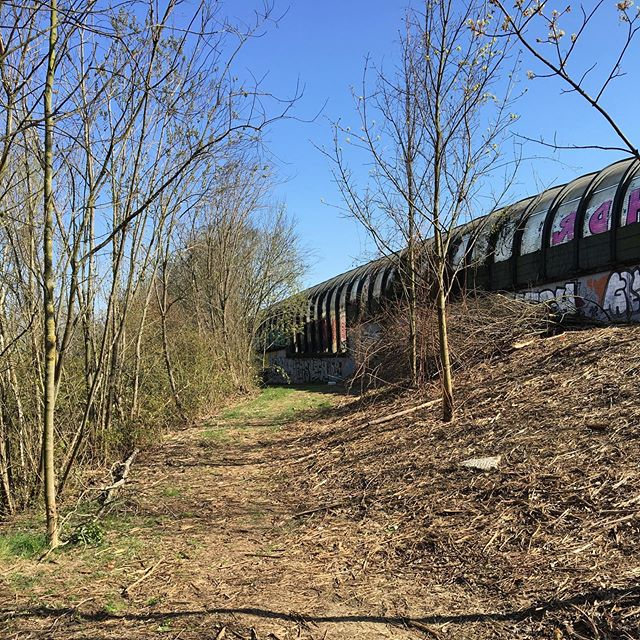sky: (165, 1, 633, 232)
tree: (315, 11, 509, 410), (1, 1, 124, 522), (121, 39, 193, 438), (475, 2, 640, 143), (202, 208, 314, 386)
vegetation: (1, 361, 578, 640)
